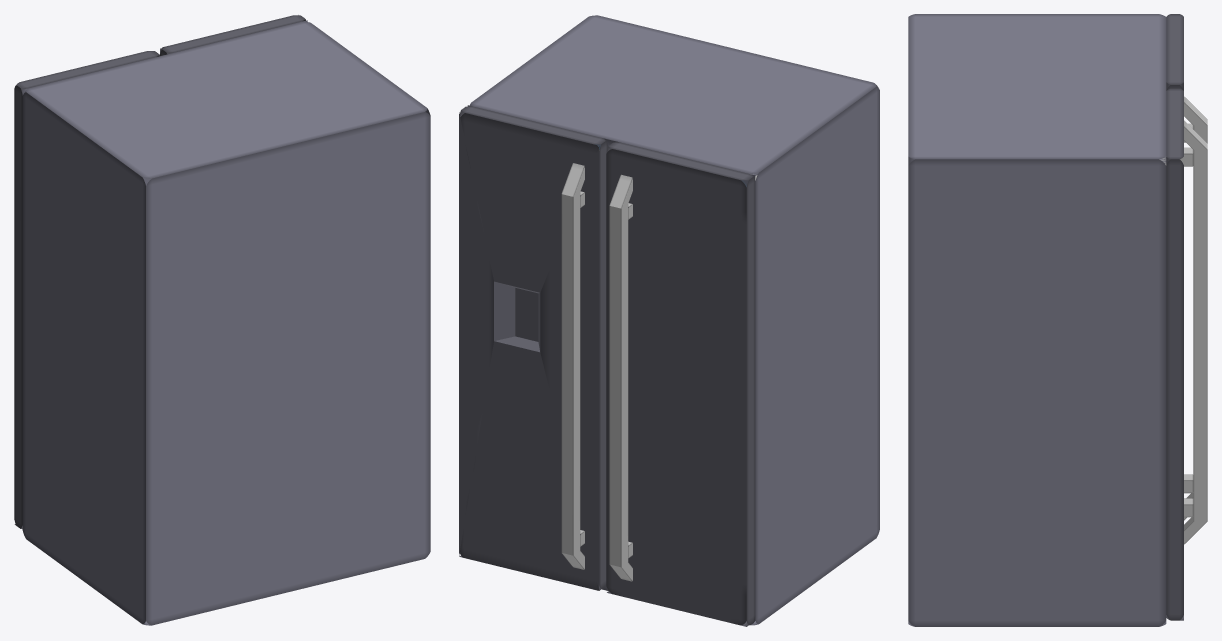
File: Fridge + Kitchen Props.fbx
3 views of the same model, side by side, from view 1: azimuth 30°, elevation 25°; view 2: azimuth 150°, elevation 25°; view 3: azimuth 270°, elevation 25° (orthographic). The views are drawn at different scales.
Visible parts, largest first — view 1: Fridge, Door 1, Door 2; view 2: Fridge, Door 1, Door 2; view 3: Fridge, Door 2, Door 1.
Boxes of the visible parts, left/top/right/bottom form: Fridge: left=22, top=21, right=430, bottom=625; Door 1: left=14, top=51, right=159, bottom=529; Door 2: left=160, top=15, right=307, bottom=55; Fridge: left=469, top=15, right=879, bottom=625; Door 1: left=606, top=141, right=757, bottom=626; Door 2: left=459, top=105, right=607, bottom=590; Fridge: left=908, top=14, right=1166, bottom=626; Door 2: left=1159, top=88, right=1207, bottom=620; Door 1: left=1166, top=14, right=1207, bottom=520.
Size of the model in its own units: 150 by 225 by 131.
6 materials, 6 textured.
